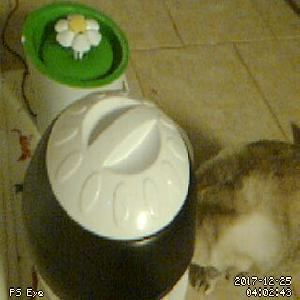cat: (188, 122, 300, 297)
fountain: (21, 2, 131, 90)
